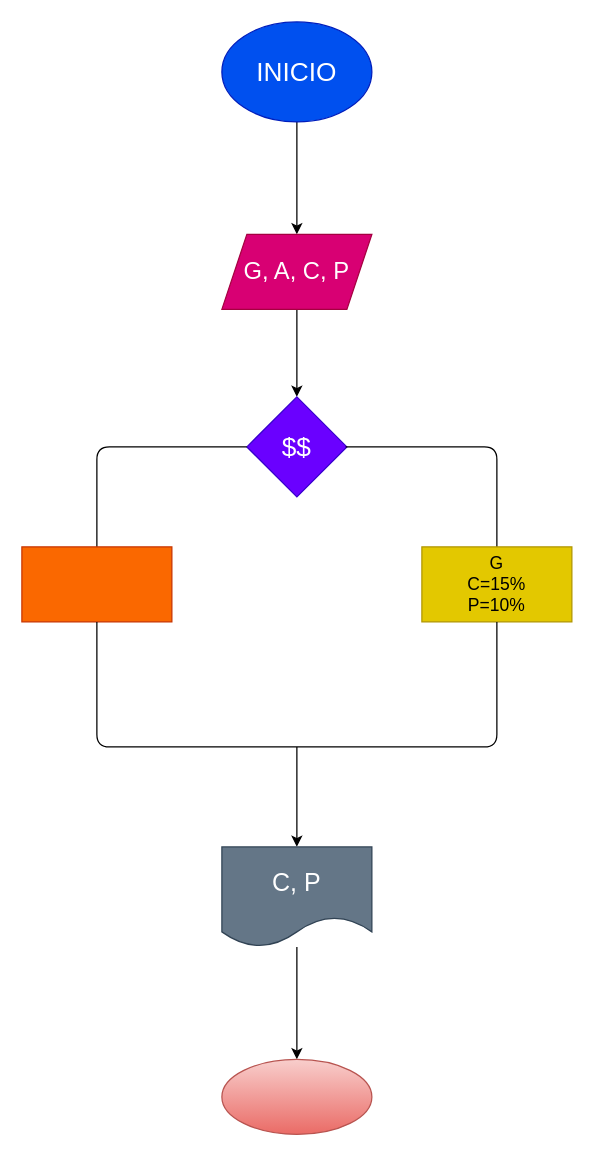
Image size: 594x1156. Some labels were removed from this diagram. Each missing label, with the centre of its shape:
A C=20% P=5%: point (96, 584)
FIN: point (296, 1096)
